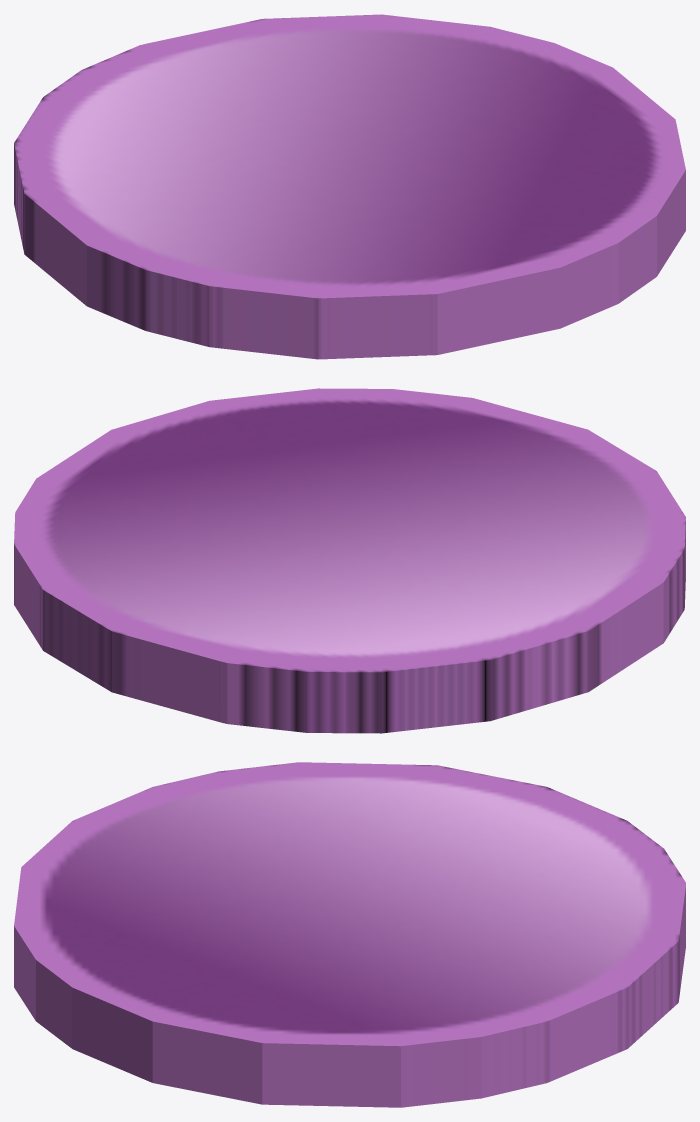
File: nucleolus.gltf
3 views of the same model, one above another, from view 1: azimuth 30°, elevation 25°; view 2: azimuth 150°, elevation 25°; view 3: azimuth 270°, elevation 25° (orthographic).
Bounding box in the file's own units: 0.0234 × 0.00236 × 0.0234.
Materials: 1 (1 with a texture image).
